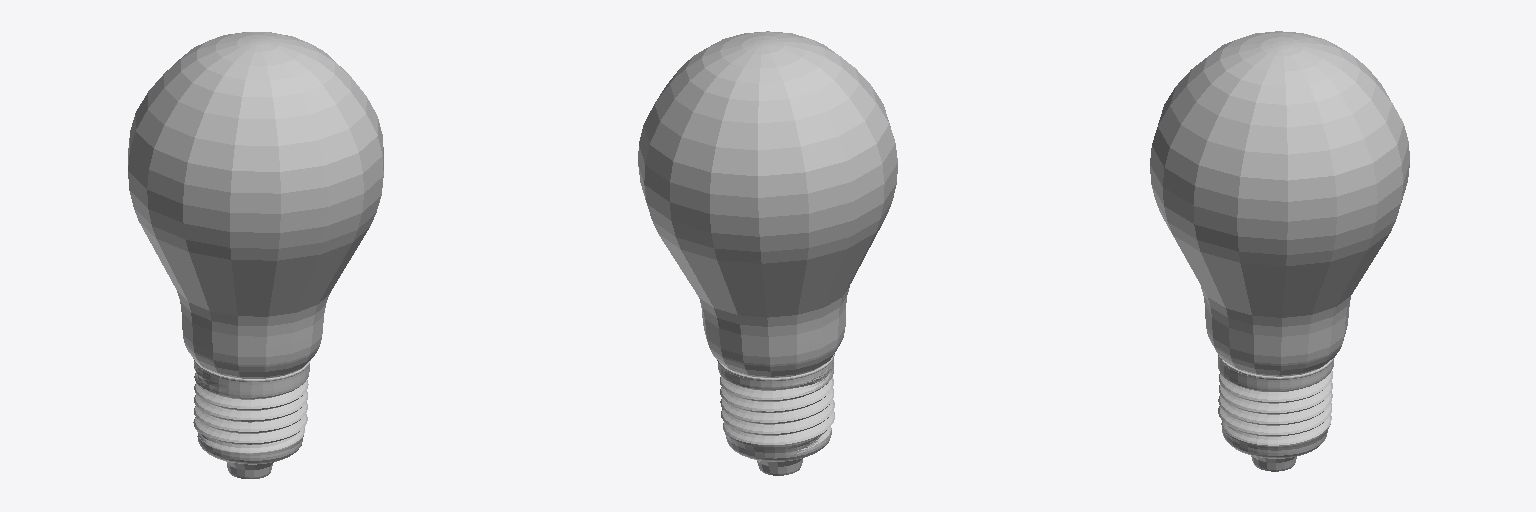
File: lightSource.obj
3 views of the same model, side by side, from view 1: azimuth 30°, elevation 25°; view 2: azimuth 150°, elevation 25°; view 3: azimuth 270°, elevation 25° (orthographic).
Visible parts, largest first — view 1: Ampoule; view 2: Ampoule; view 3: Ampoule.
Boxes of the visible parts, x1=… form: Ampoule: x1=128, y1=32, x2=383, y2=478; Ampoule: x1=638, y1=31, x2=897, y2=475; Ampoule: x1=1150, y1=31, x2=1409, y2=471.
Size of the model in its own units: 0.3736 by 0.6746 by 0.3738.